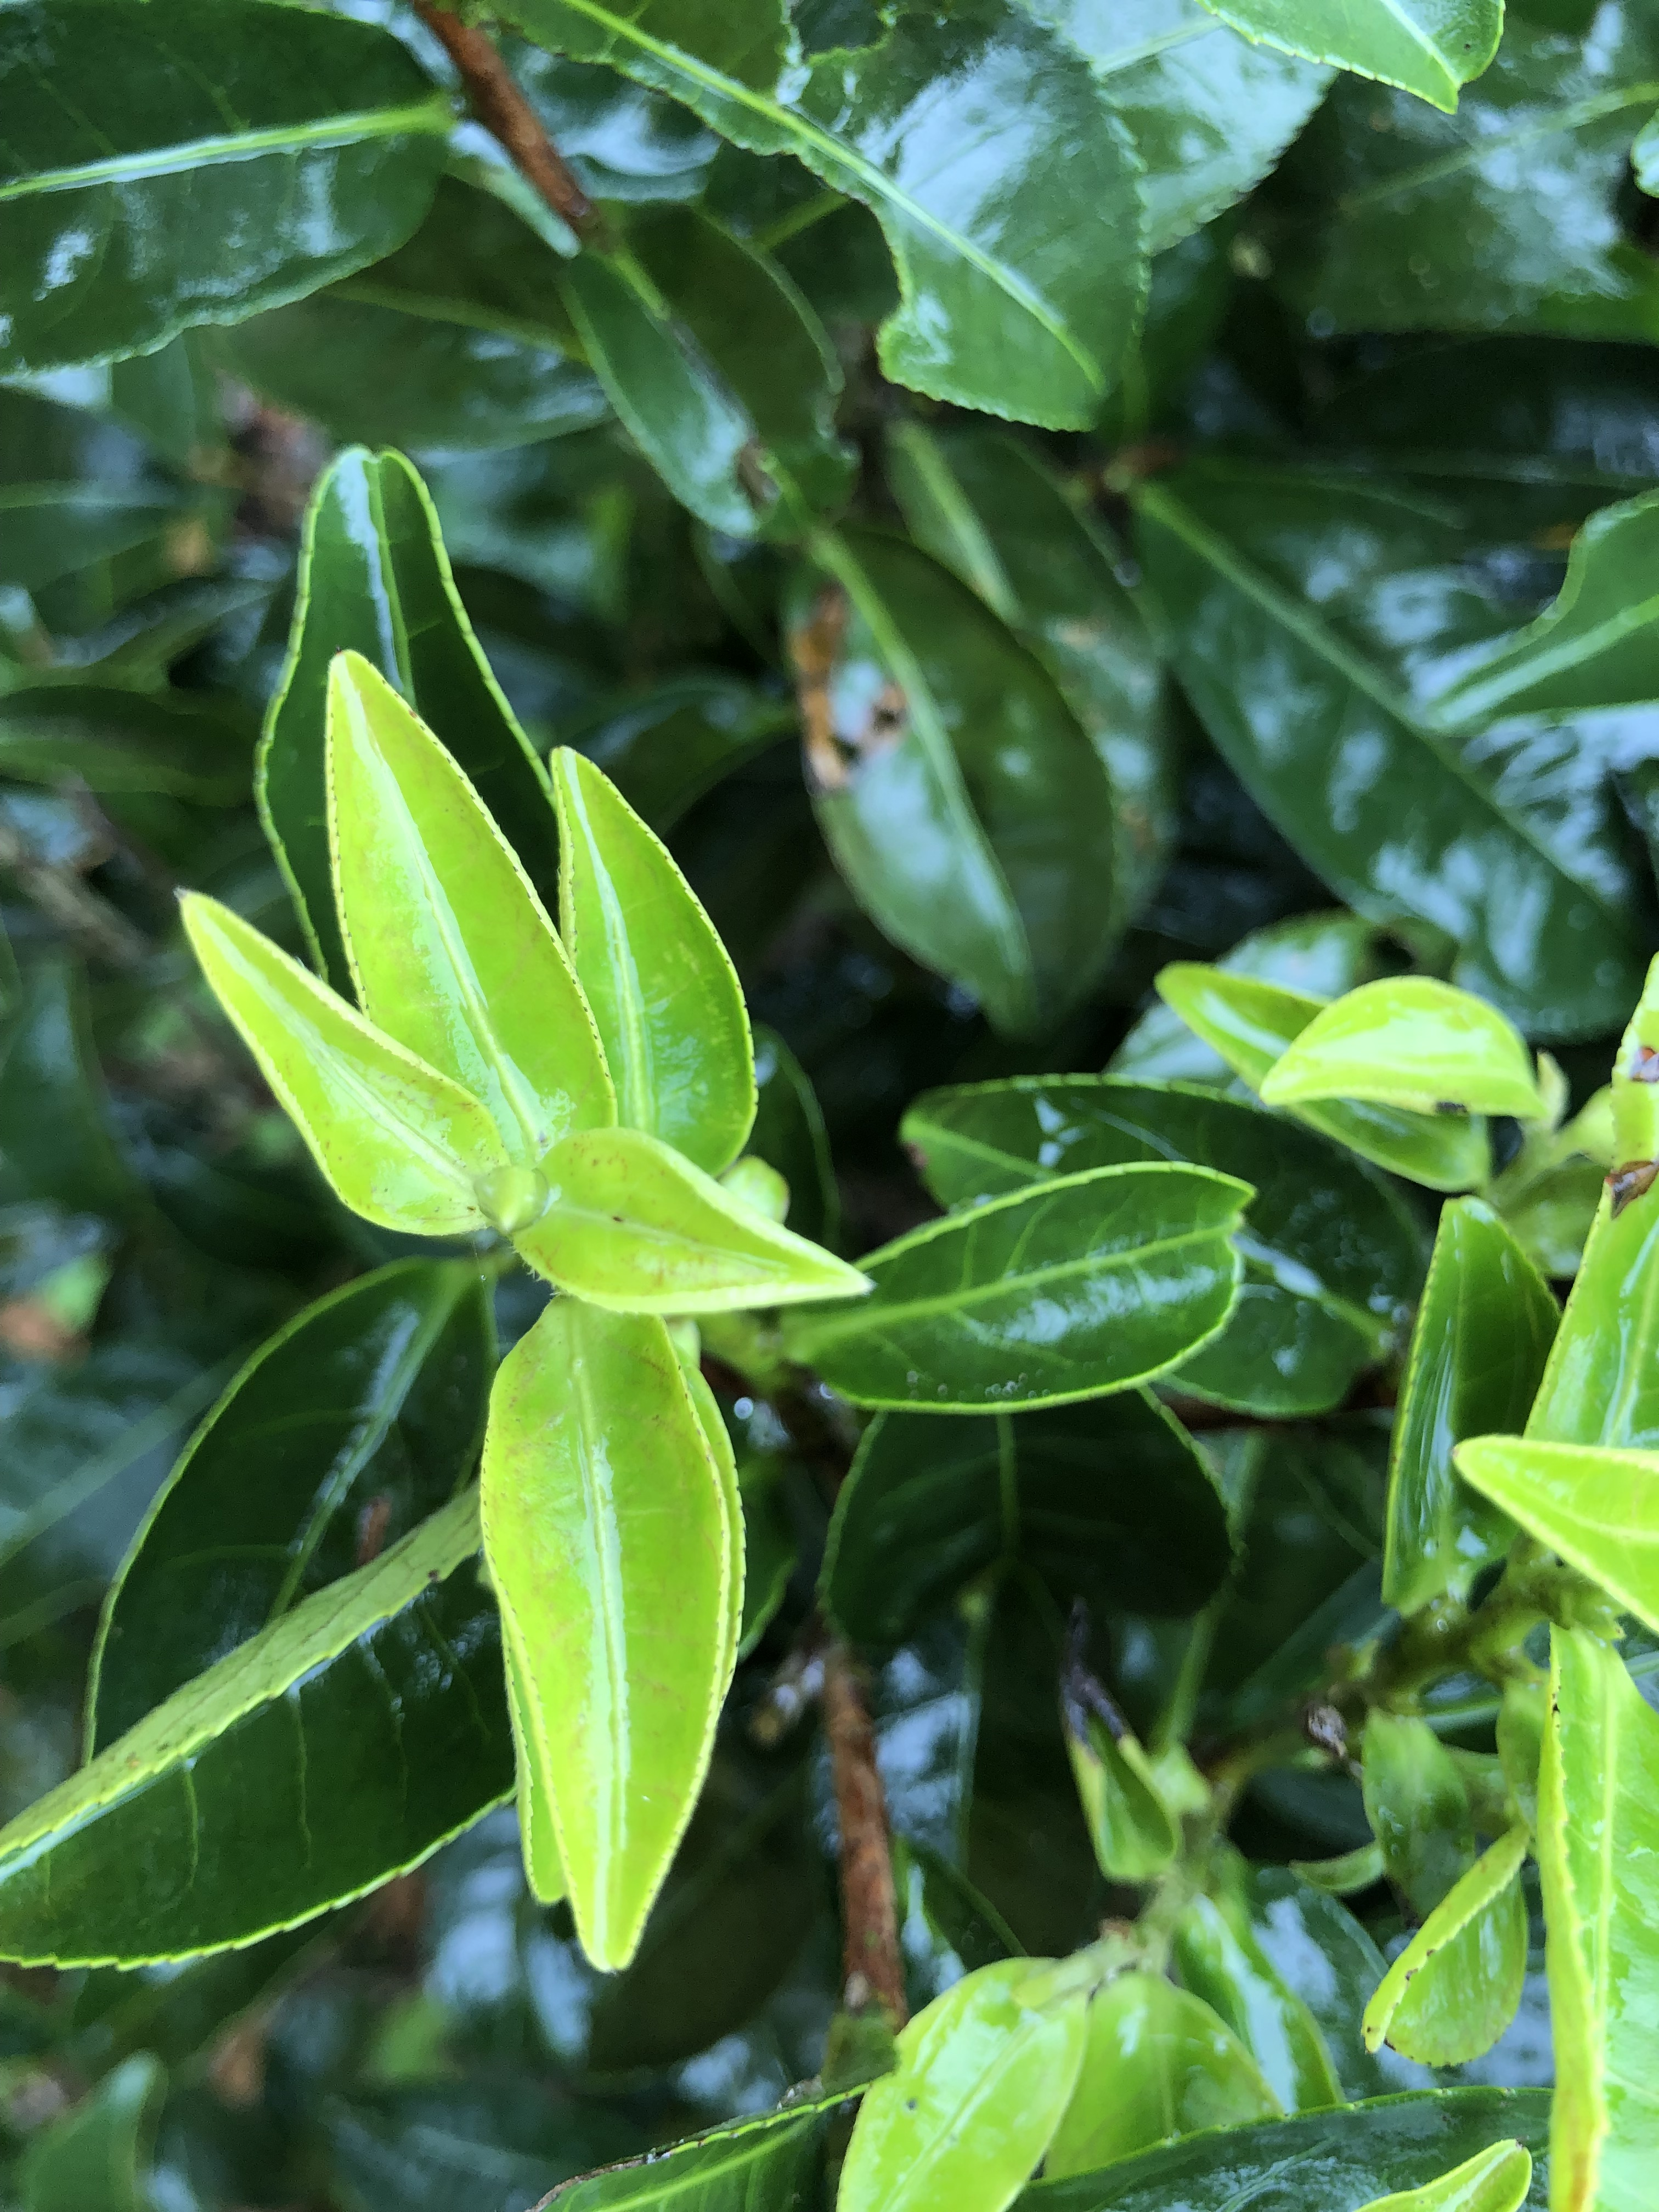formosa: (464, 1264, 741, 1975), (486, 1111, 882, 1325)
